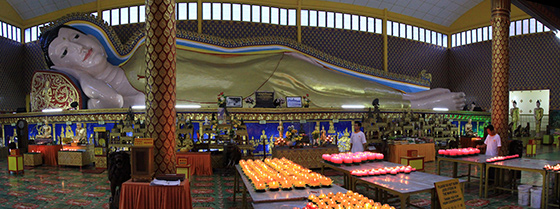Buddhist Temple: (21, 13, 467, 125)
